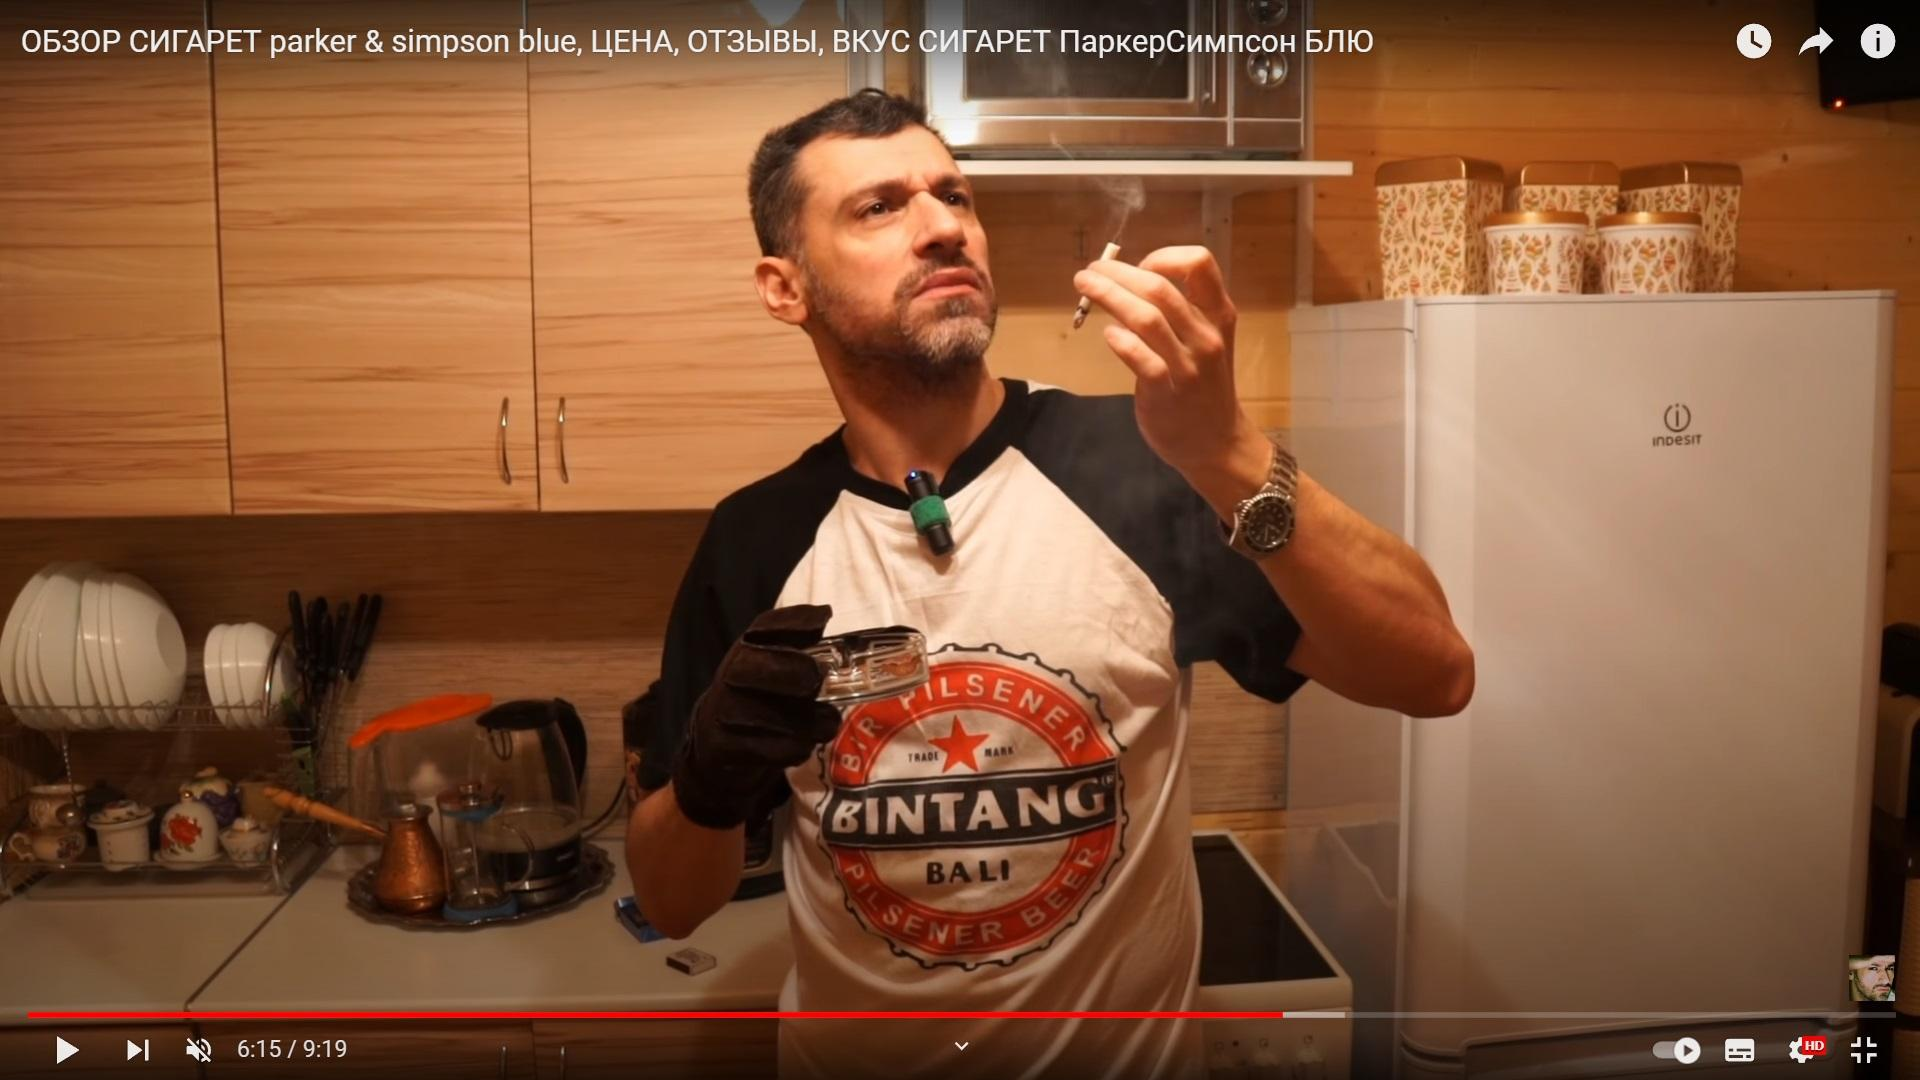cigarette: (1072, 243, 1122, 328)
